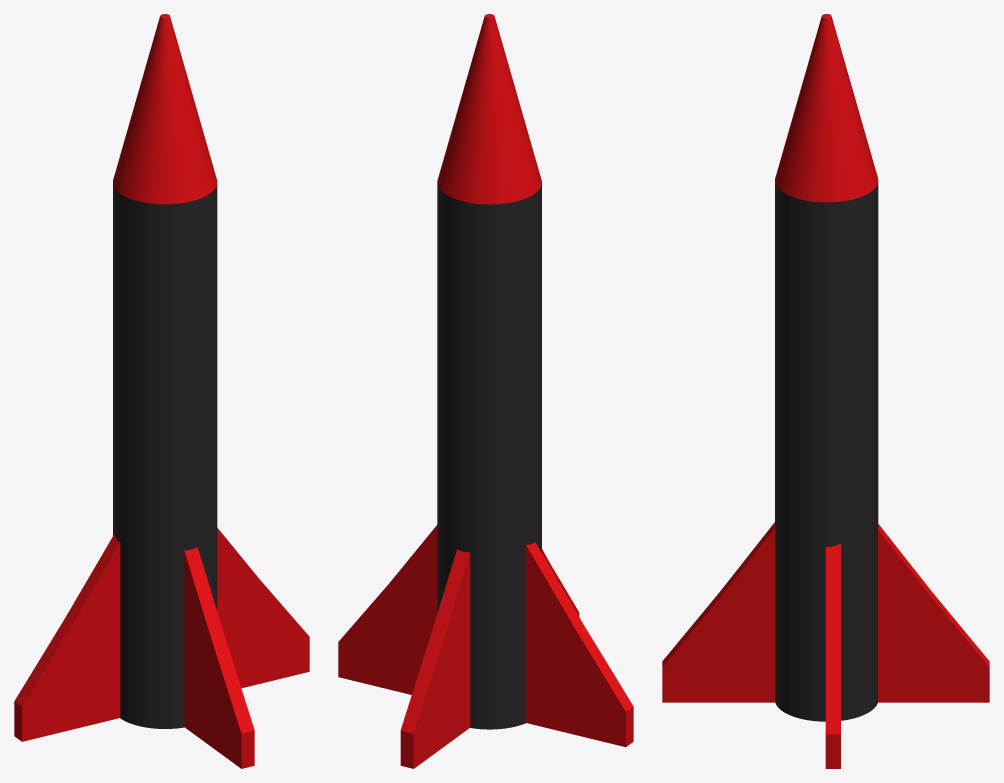
File: Rocket.fbx
3 renders of one model, left to right at view 1: azimuth 30°, elevation 25°; view 2: azimuth 150°, elevation 25°; view 3: azimuth 270°, elevation 25°, orthographic.
Parts seen in each view (by area): view 1: Cylinder; view 2: Cylinder; view 3: Cylinder.
Boxes of the visible parts, x1,y1,x2,y2 form: Cylinder: [14, 14, 309, 768]; Cylinder: [338, 14, 633, 768]; Cylinder: [662, 14, 989, 768].
Bounding box in the file's own units: 35.87 × 82.4 × 35.77.
